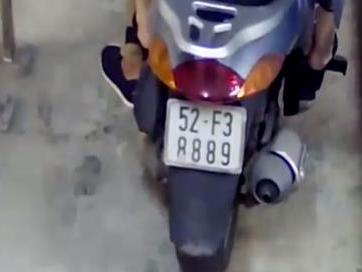num_plate: (162, 98, 248, 177)
